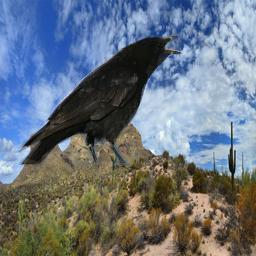Crow: (17, 32, 185, 176)
